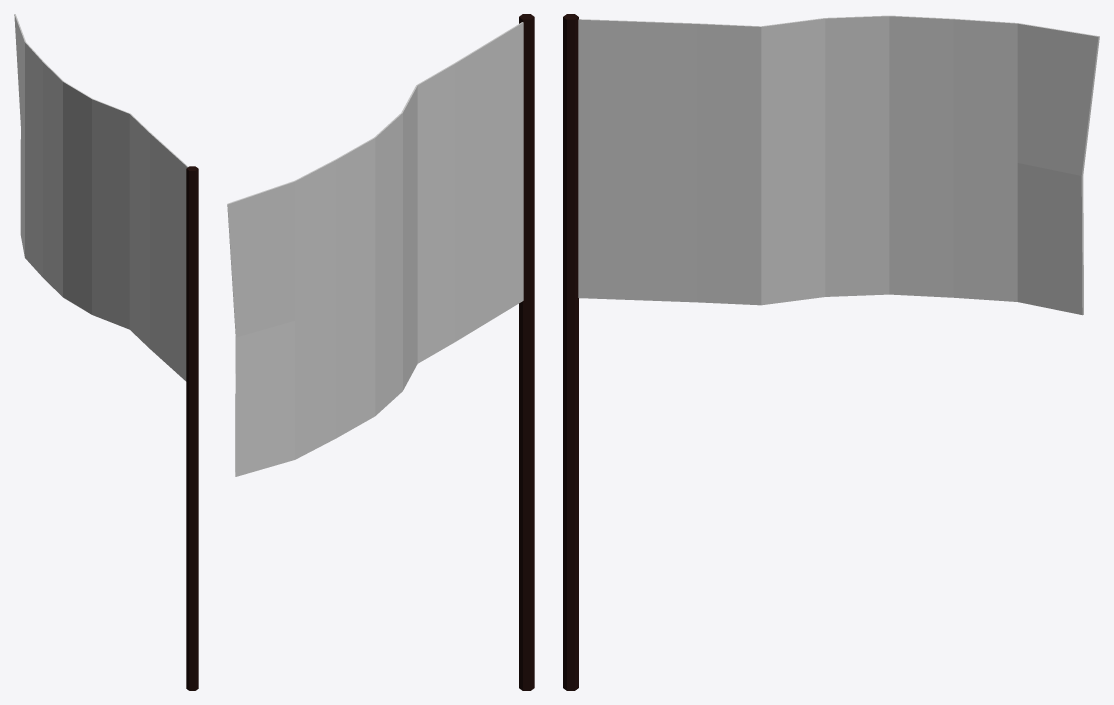
File: bandeira_pt.fbx
3 renders of one model, left to right at view 1: azimuth 30°, elevation 25°; view 2: azimuth 150°, elevation 25°; view 3: azimuth 270°, elevation 25°, orthographic. The views are drawn at different scales.
Visible parts, largest first — view 1: bandeira, mastro; view 2: bandeira, mastro; view 3: bandeira, mastro.
Boxes of the visible parts, bbox=[...] form: bandeira: bbox=[14, 14, 187, 381]; mastro: bbox=[186, 166, 198, 690]; bandeira: bbox=[227, 22, 523, 476]; mastro: bbox=[519, 14, 534, 690]; bandeira: bbox=[578, 15, 1099, 315]; mastro: bbox=[563, 14, 578, 690].
Bounding box in the file's own units: 47.71 × 702 × 509.
